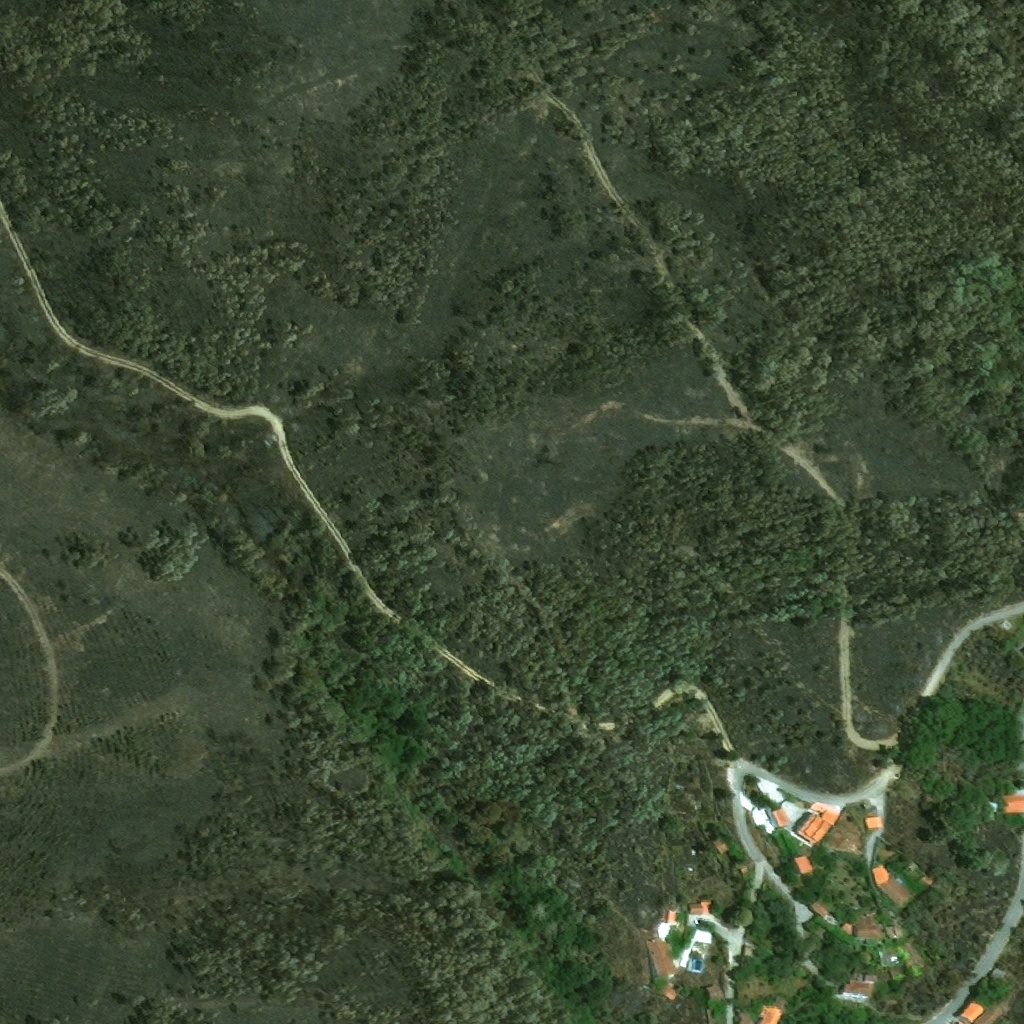0 no-damage: (795, 800, 842, 846), (869, 861, 916, 907), (647, 937, 676, 980), (841, 911, 885, 938), (899, 937, 928, 971), (957, 995, 987, 1023), (755, 1000, 785, 1023), (973, 1002, 1004, 1023), (842, 979, 871, 1001), (809, 896, 835, 919), (793, 851, 816, 876), (767, 807, 792, 830), (658, 981, 681, 1004), (810, 921, 832, 940), (1003, 794, 1023, 813), (713, 837, 732, 856), (886, 922, 904, 939), (880, 947, 899, 963), (888, 963, 904, 979), (707, 985, 723, 1000), (689, 903, 709, 915), (865, 816, 884, 828), (738, 1011, 755, 1023), (741, 944, 754, 957), (865, 973, 875, 978)
3 destroyed: (706, 1008, 721, 1023)
